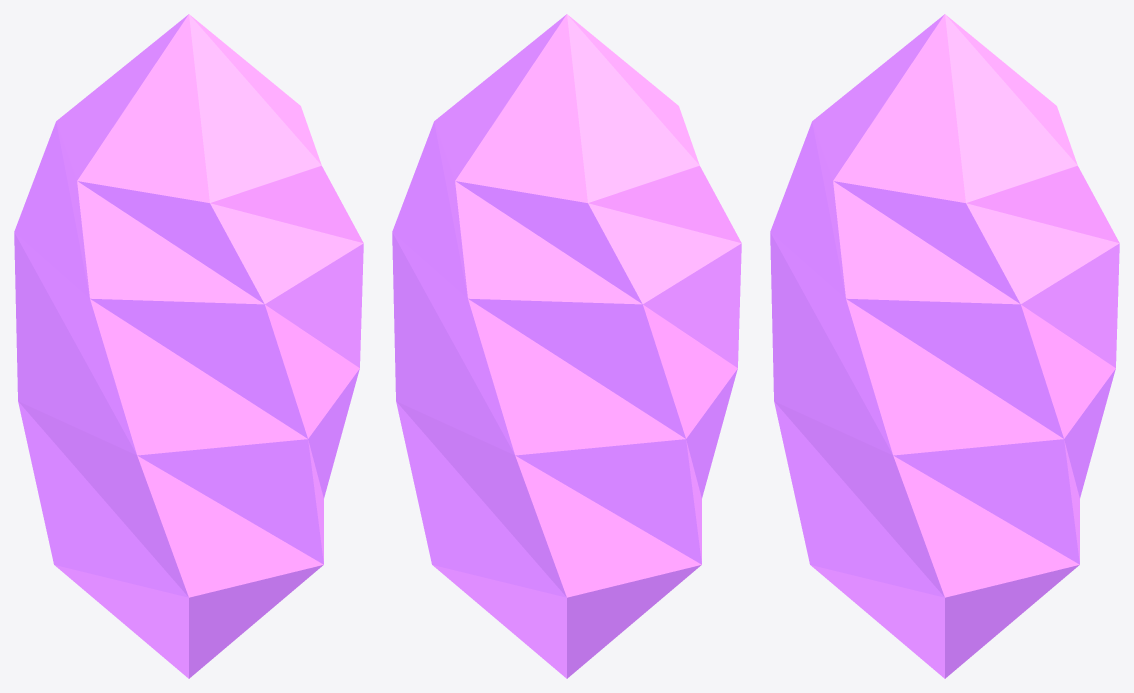
Rendered from gem_purple.glb.
3 views of the same model, side by side, from view 1: azimuth 30°, elevation 25°; view 2: azimuth 150°, elevation 25°; view 3: azimuth 270°, elevation 25° (orthographic).
Bounding box in the file's own units: 0.5159 × 1.13 × 0.5384.
